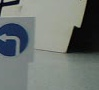left: (1, 23, 28, 57)
